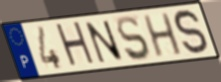4: (37, 25, 63, 71)
H: (53, 20, 99, 70), (141, 11, 185, 59)
N: (83, 19, 126, 65)
S: (173, 8, 210, 57), (116, 14, 152, 63)
